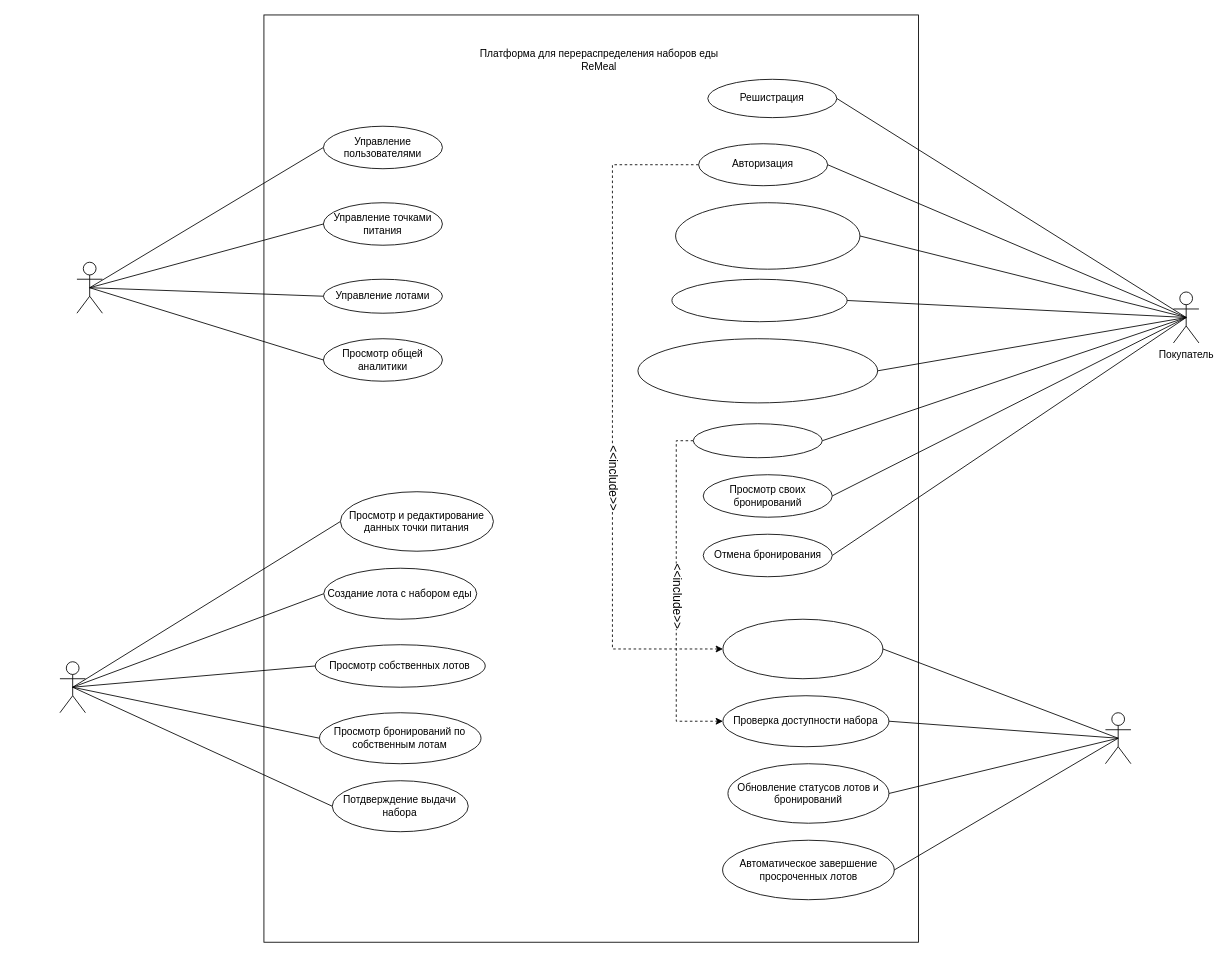
The diagram is 1228 pixels wide and 957 high, and some of its shapes have lost their labels. The shapes that lost their labels are listed below. From the top down, each one's box as (x1, y1, x2, y2) in pixels, then its label:
(675, 202, 860, 269): Просмотр и редактирование личных данных
(76, 261, 102, 313): Администратор
(671, 278, 847, 322): Просмотр каталога наборов
(637, 338, 878, 403): Просмотр информации о лоте и точке питания
(692, 423, 822, 458): Бронирование набора
(722, 618, 883, 679): Аутентификация пользователя
(59, 661, 85, 713): Владелец точки питания
(1105, 712, 1131, 764): Система
